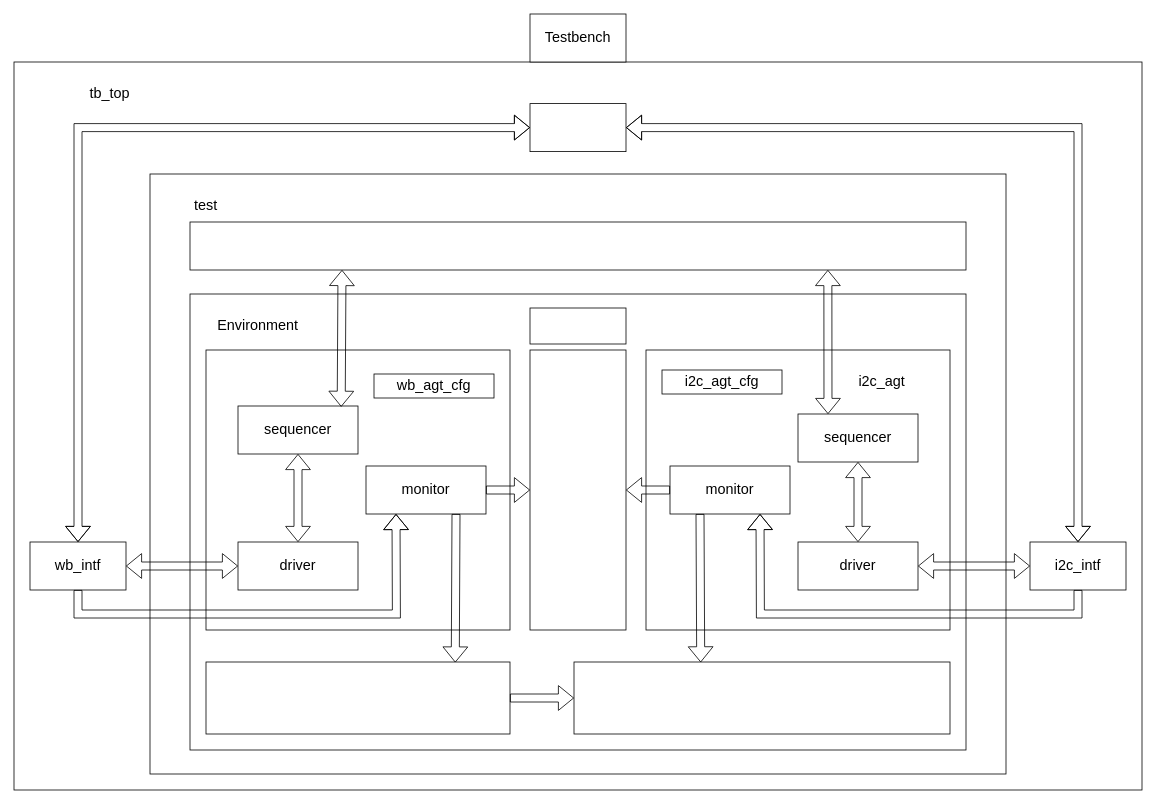
Image size: 1156x804. Some labels were removed from this diagram. Here are the shapes that lost their labels. From the top down, the centre of each, then its label:
At (x=577, y=127): "DUT".
At (x=577, y=245): "sequence".
At (x=577, y=325): "env_cfg".
At (x=274, y=378): "wb_agt".
At (x=577, y=489): "coverage".
At (x=357, y=697): "predictor".
At (x=761, y=697): "scoreboard".
